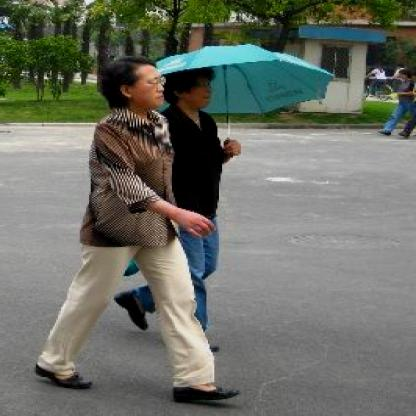ped: (39, 58, 240, 404)
